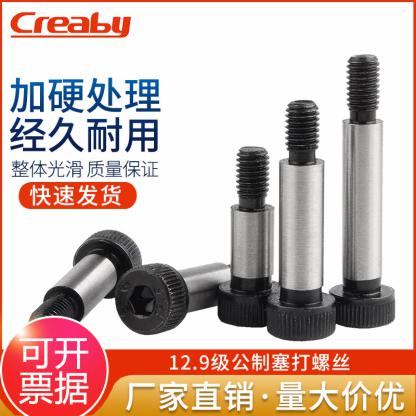FOD: (328, 51, 396, 334), (264, 98, 339, 342), (25, 226, 146, 338), (214, 146, 282, 330), (115, 261, 233, 338)
